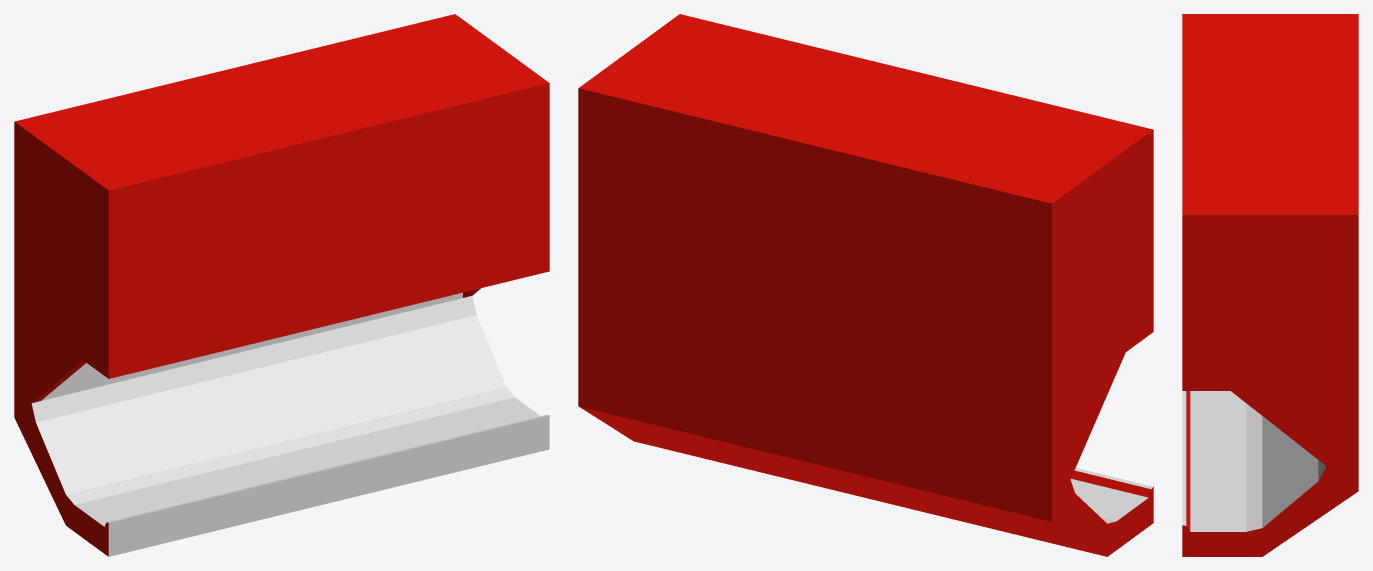
The model's file is paper_dispenser.fbx.
The picture shows the model from 3 angles, left to right: view 1: azimuth 30°, elevation 25°; view 2: azimuth 150°, elevation 25°; view 3: azimuth 270°, elevation 25°; orthographic projection. The views are drawn at different scales.
Parts seen in each view (by area): view 1: Dispenser; view 2: Dispenser; view 3: Dispenser.
Part boxes in pixels (x1,y1,x2,y2): Dispenser: [14, 14, 549, 556]; Dispenser: [578, 14, 1153, 556]; Dispenser: [1182, 14, 1358, 556].
Size of the model in its own units: 951 by 756 by 353.
